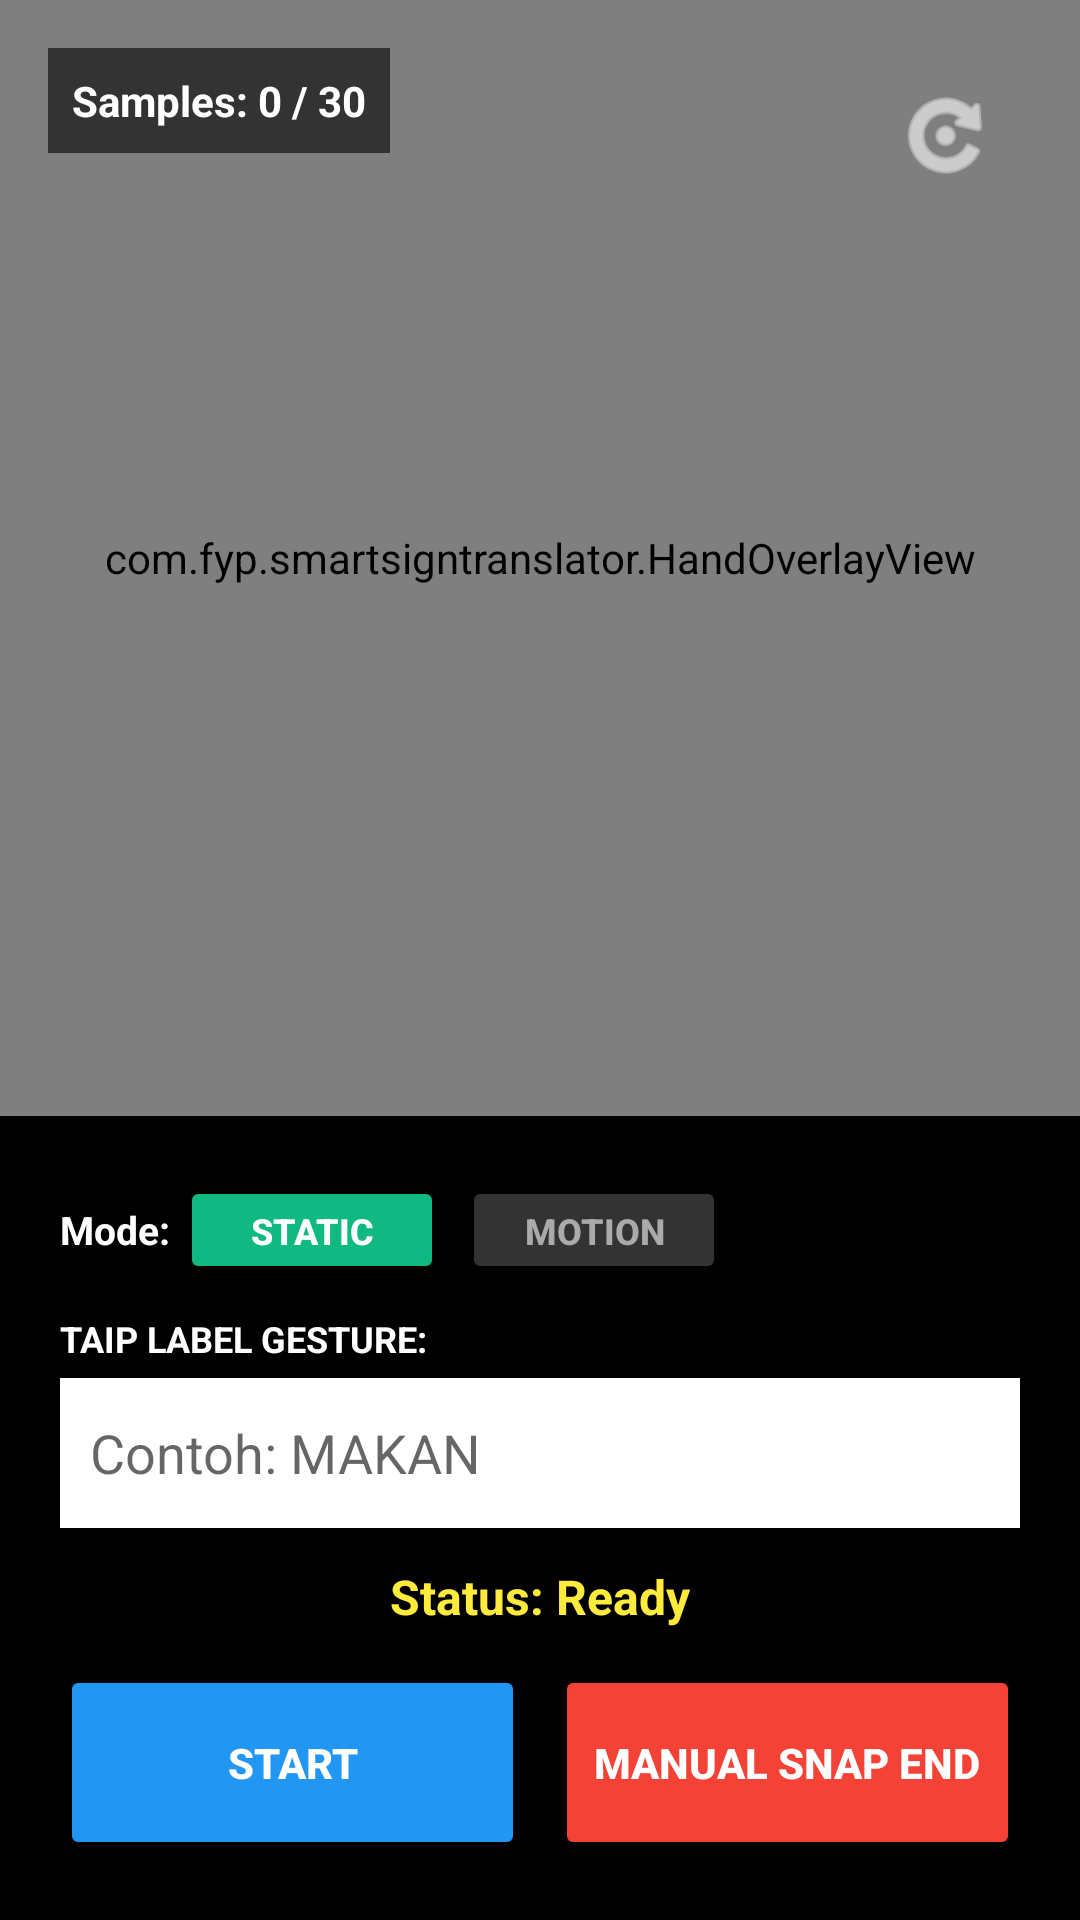

Icon bounding boxes for this 1080 x 1920 phone screenshot, format {"x1": x1, "y1": y1, "x2": x2, "y2": y2}:
rotate: {"x1": 908, "y1": 98, "x2": 982, "y2": 173}
